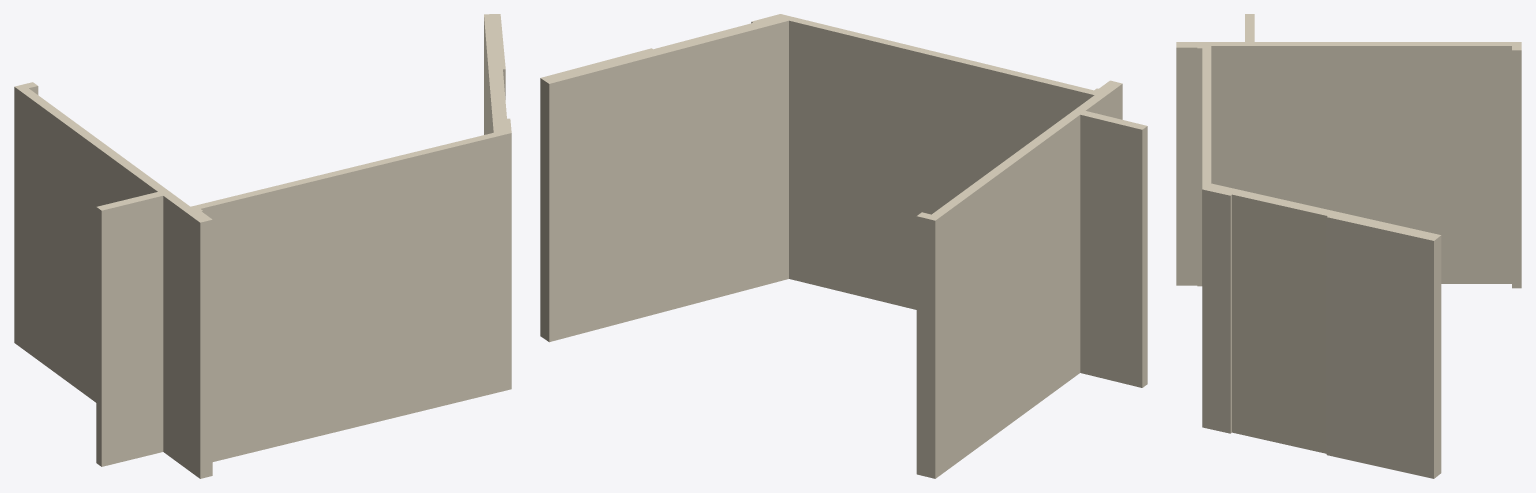
3 views of the same model, side by side, from view 1: azimuth 30°, elevation 25°; view 2: azimuth 150°, elevation 25°; view 3: azimuth 270°, elevation 25° (orthographic). The views are drawn at different scales.
Parts seen in each view (by area): view 1: B-FF-WALL-017; view 2: B-FF-WALL-017; view 3: B-FF-WALL-017.
Boxes of the visible parts, x1,y1,x2,y2 form: B-FF-WALL-017: (14,14,511,478); B-FF-WALL-017: (540,14,1147,478); B-FF-WALL-017: (1176,14,1521,478).
Bounding box in the file's own units: 4.95 × 2.42 × 3.18.
